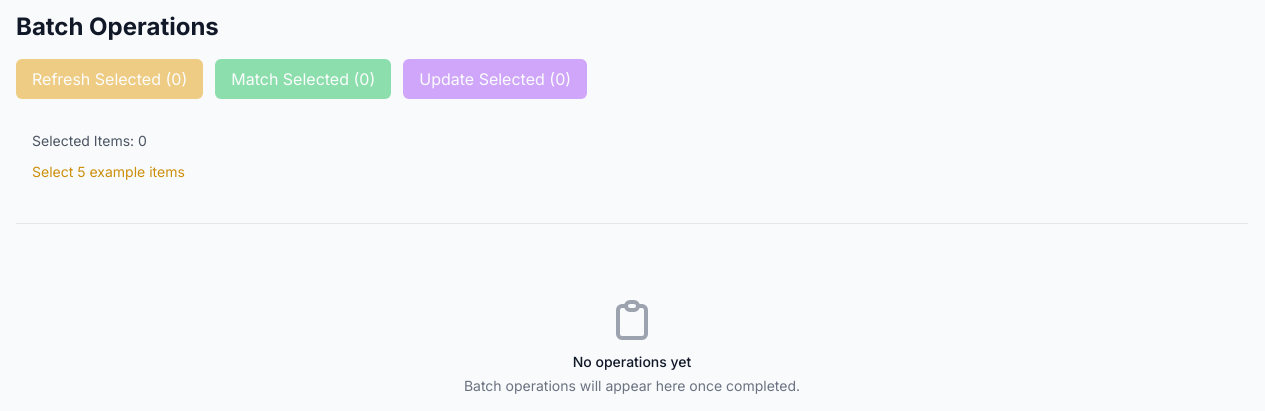
Test: BatchOperationExample › should enable buttons after selecting items
The image size is (1265, 411).
Click the button "Select 5 example items": (108, 172) 32,162 -> 185,182
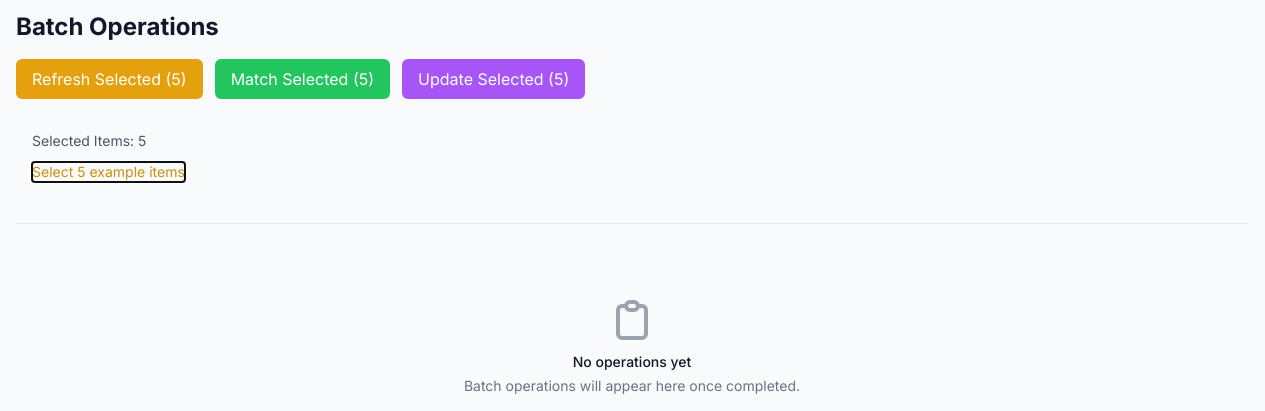
Result: the button "Refresh Selected (5)" is enabled at 16,59 -> 203,99
Result: the button "Match Selected (5)" is enabled at 215,59 -> 390,99
Result: the button "Update Selected (5)" is enabled at 402,59 -> 585,99
